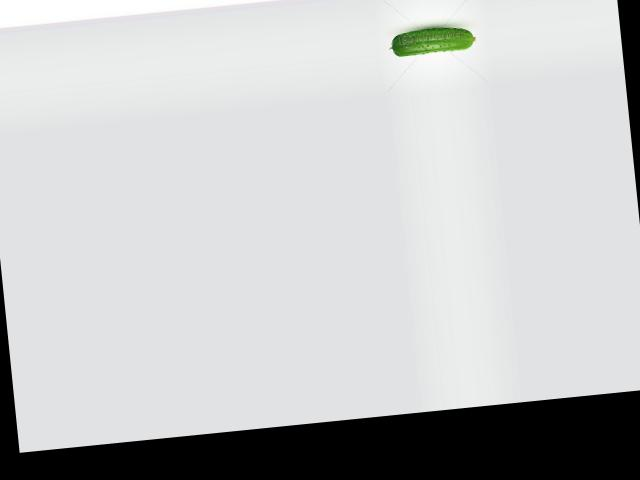cucumber: (387, 24, 477, 57)
